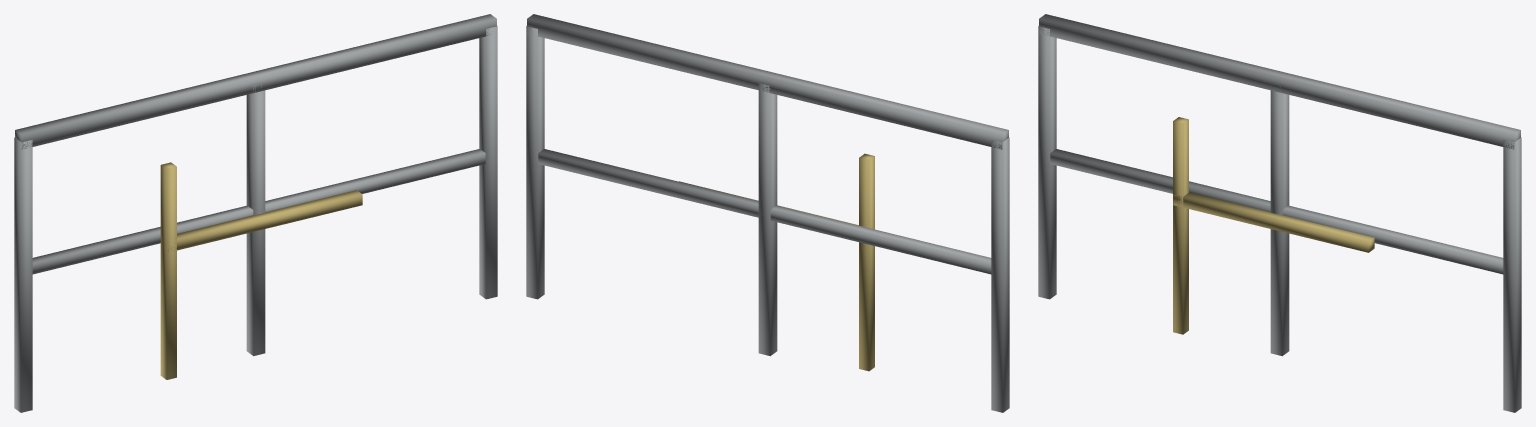
File: residential_gate_l180_h100.glb
3 renders of one model, left to right at view 1: azimuth 30°, elevation 25°; view 2: azimuth 150°, elevation 25°; view 3: azimuth 330°, elevation 25°, orthographic.
Visible parts, largest first — view 1: world; view 2: world; view 3: world.
Part boxes in pixels (x1=…): world: x1=14, y1=14, x2=497, y2=412; world: x1=526, y1=14, x2=1009, y2=412; world: x1=1038, y1=14, x2=1521, y2=412.
Bounding box in the file's own units: 1.85 × 1.03 × 0.0825.
